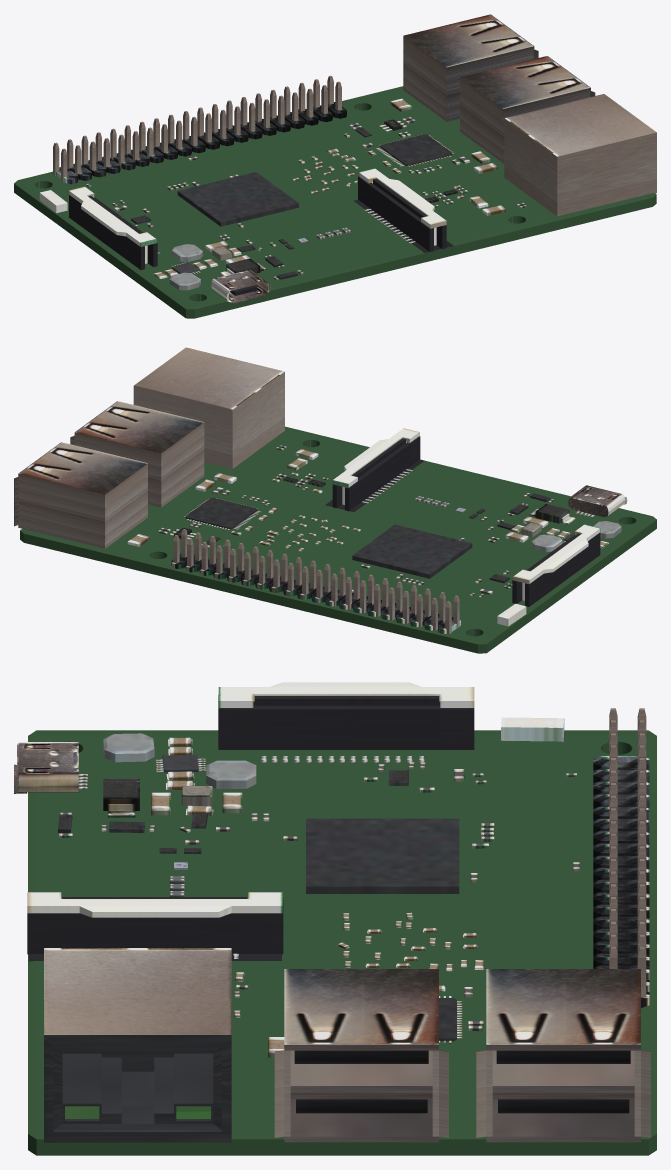
Rendered from rpi.glb.
The picture shows the model from 3 angles, top to bottom: view 1: azimuth 30°, elevation 25°; view 2: azimuth 150°, elevation 25°; view 3: azimuth 270°, elevation 25°; orthographic projection. The views are drawn at different scales.
Parts seen in each view (by area): view 1: rpi-3; view 2: rpi-3; view 3: rpi-3.
Boxes of the visible parts, x1,y1,x2,y2 form: rpi-3: (14, 14, 656, 318); rpi-3: (14, 347, 656, 653); rpi-3: (14, 682, 656, 1155).
Size of the model in its own units: 87.15 by 12.64 by 57.23.
Materials: 1 (1 with a texture image).
